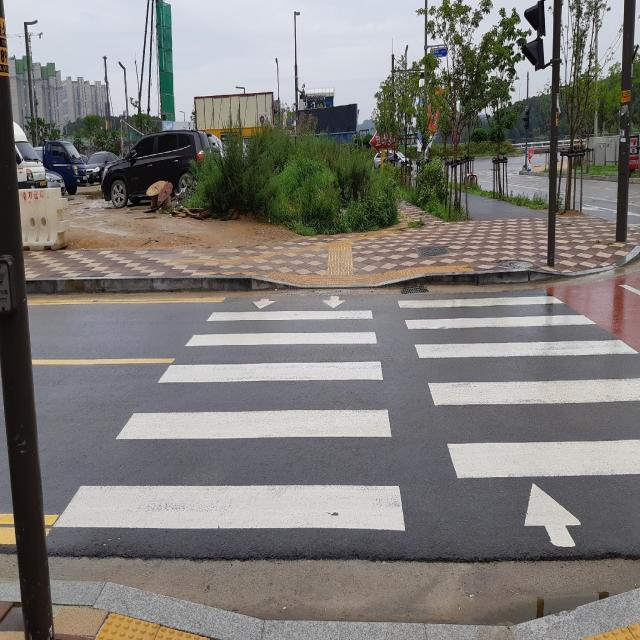횡단보도: (49, 293, 640, 556)
